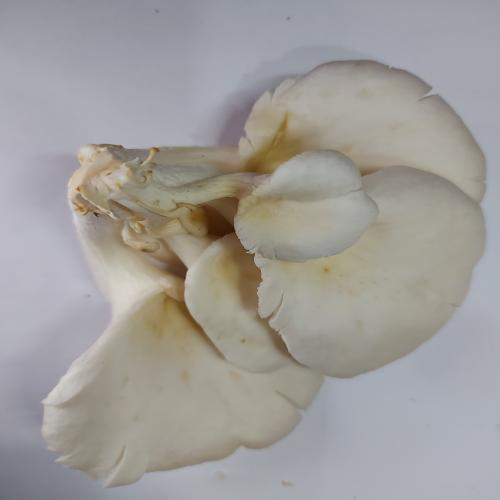Oyster Mushroom: (40, 58, 487, 488)
